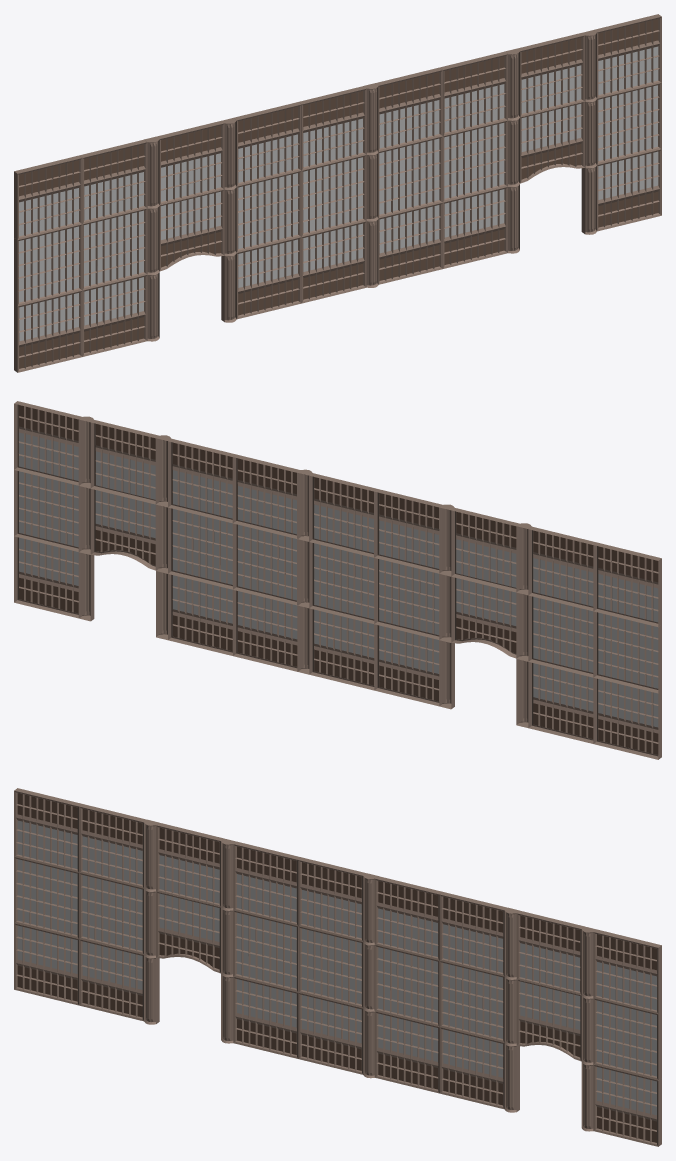
The model's file is wall_selection_1.fbx.
The picture shows the model from 3 angles, top to bottom: view 1: azimuth 30°, elevation 25°; view 2: azimuth 150°, elevation 25°; view 3: azimuth 330°, elevation 25°; orthographic projection.
Parts seen in each view (by area): view 1: Wall_2_single4, Wall_2_single8, Wall_2_single5, Wall_2_single9, Wall_2_single13, Wall_2_single10, Wall_2_single16, Wall_2_single1, Wall_1_single1, Wall_2_single17, Wall_2_single18, Wall_2_single12 (+28 smaller); view 2: Wall_1_single1, Wall_1_single4, Wall_1_single5, Wall_1_single7, Wall_1_single, Wall_1_single3, Wall_2_single4, Wall_2_single1, Wall_1_single6, Wall_2_single13, Wall_2_single12, Wall_2_single15 (+28 smaller); view 3: Wall_2_single13, Wall_2_single5, Wall_2_single8, Wall_2_single9, Wall_2_single16, Wall_2_single17, Wall_2_single18, Wall_2_single12, Wall_1_single5, Wall_2_single4, Wall_2_single10, Wall_2_single14 (+28 smaller).
Boxes of the visible parts, x1,y1,x2,y2 form: Wall_2_single4: (14,155,82,239); Wall_2_single8: (233,102,301,186); Wall_2_single5: (79,139,147,224); Wall_2_single9: (299,86,366,170); Wall_2_single13: (594,14,661,98); Wall_2_single10: (156,121,224,205); Wall_2_single16: (375,67,442,151); Wall_2_single1: (14,290,82,372); Wall_1_single1: (14,224,82,306); Wall_2_single17: (440,51,507,136); Wall_2_single18: (517,33,584,117); Wall_2_single12: (595,149,661,231); Wall_1_single1: (593,609,661,693); Wall_1_single4: (374,555,442,639); Wall_1_single5: (14,467,82,551); Wall_1_single7: (233,521,301,605); Wall_1_single: (528,593,593,677); Wall_1_single3: (309,539,374,623); Wall_2_single4: (593,542,661,626); Wall_2_single1: (593,678,661,759); Wall_1_single6: (168,505,232,589); Wall_2_single13: (14,401,81,485); Wall_2_single12: (14,536,82,618); Wall_2_single15: (233,590,301,671); Wall_2_single13: (593,929,661,1014); Wall_2_single5: (79,804,146,888); Wall_2_single8: (233,841,301,926); Wall_2_single9: (298,857,366,941); Wall_2_single16: (374,876,442,960); Wall_2_single17: (439,892,507,976); Wall_2_single18: (516,910,584,995); Wall_2_single12: (593,1065,661,1146); Wall_1_single5: (593,998,661,1080); Wall_2_single4: (14,788,81,872); Wall_2_single10: (156,823,224,906); Wall_2_single14: (439,1027,504,1109).
Bounding box in the file's own units: 73.37 × 21.67 × 1.12.
